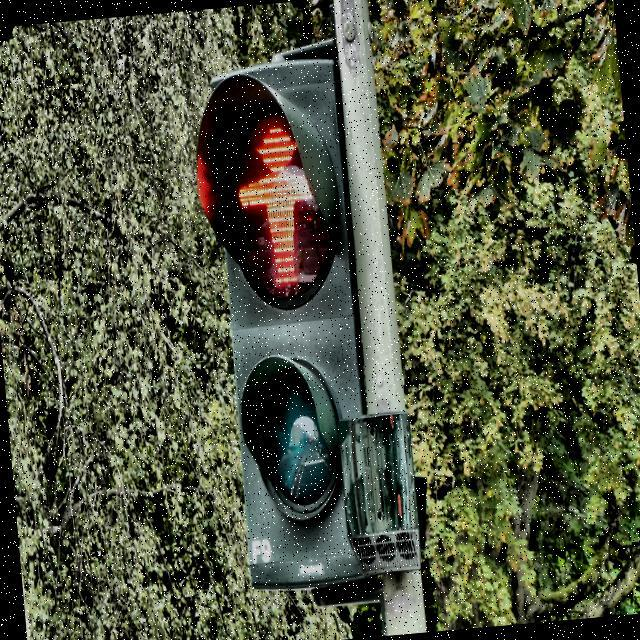red_light: (230, 114, 330, 292)
